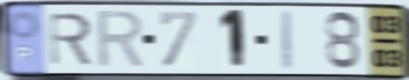1: (215, 7, 248, 73)
7: (157, 9, 199, 71)
8: (322, 9, 364, 72)
I: (278, 7, 297, 73)
R: (94, 7, 148, 71), (46, 10, 95, 69)
